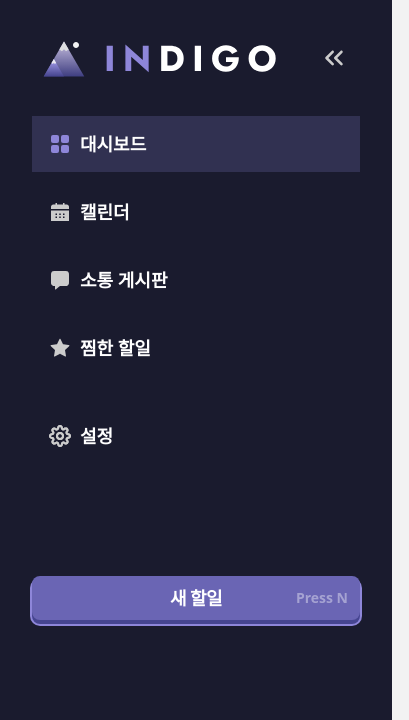
Test case: 토글 버튼을 누르면 접힘/펼침이 전환된다
Click the button named "사이드바 축소" at (334, 58), box [308, 32, 360, 84]
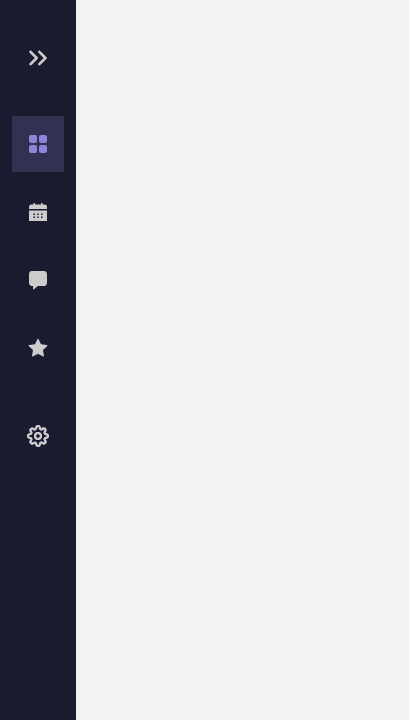
Now the button named "사이드바 확장" is shown, box [12, 32, 64, 84]
